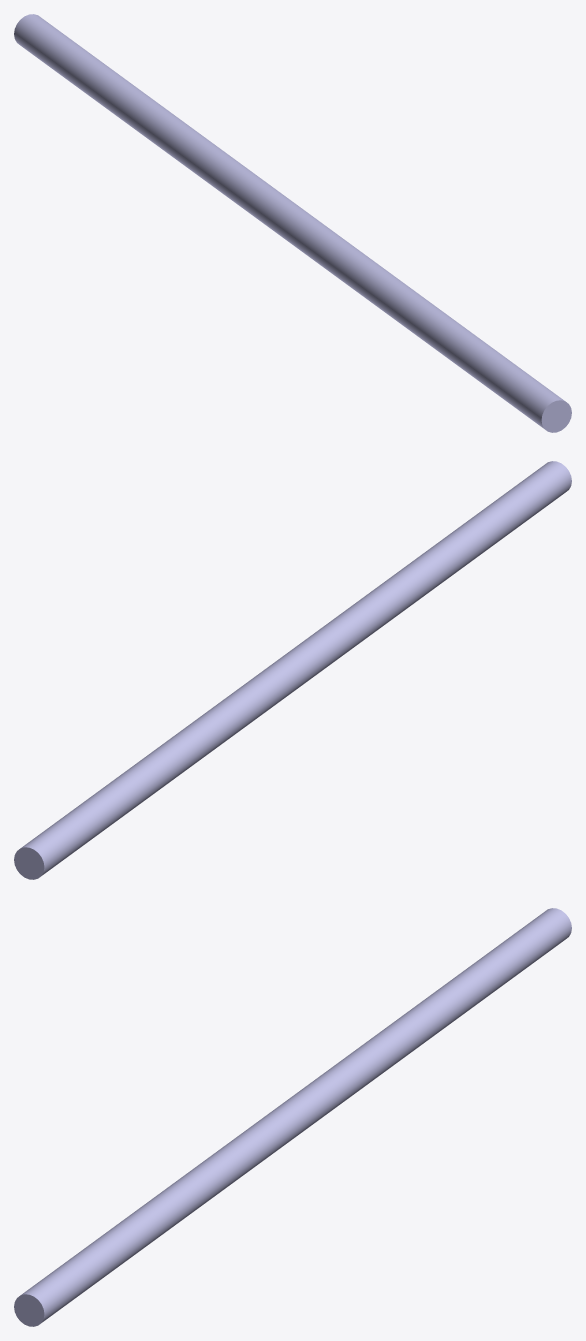
The model's file is Girl_Anim_CloseRangeAttack_ver1.1.0_BatOnly.fbx.
3 views of the same model, one above another, from view 1: azimuth 30°, elevation 25°; view 2: azimuth 150°, elevation 25°; view 3: azimuth 330°, elevation 25° (orthographic).
Parts seen in each view (by area): view 1: pCylinder1; view 2: pCylinder1; view 3: pCylinder1.
Part boxes in pixels (x1=…): pCylinder1: x1=14, y1=14, x2=571, y2=432; pCylinder1: x1=14, y1=461, x2=571, y2=879; pCylinder1: x1=14, y1=908, x2=571, y2=1326.
Size of the model in its own units: 2 by 2 by 60.
